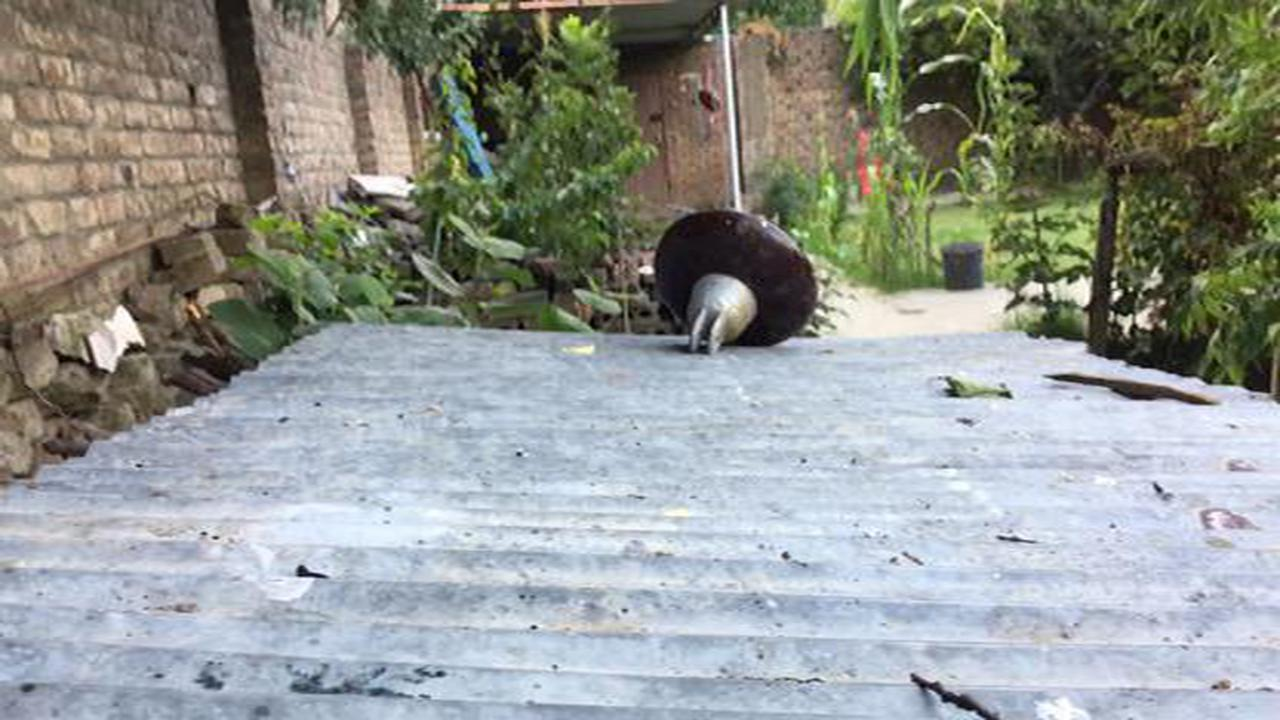insulator_disc: (652, 206, 819, 357)
